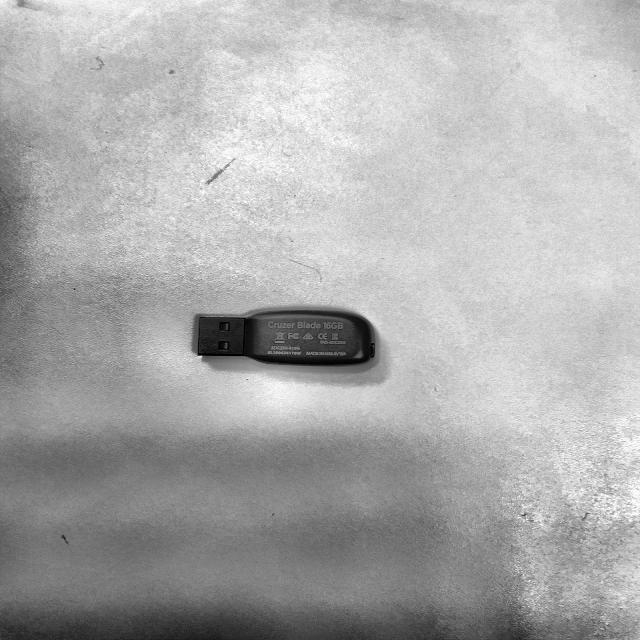Mug: (170, 277, 402, 392)
